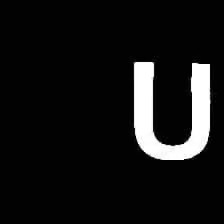LTR_U: (120, 50, 218, 165)
